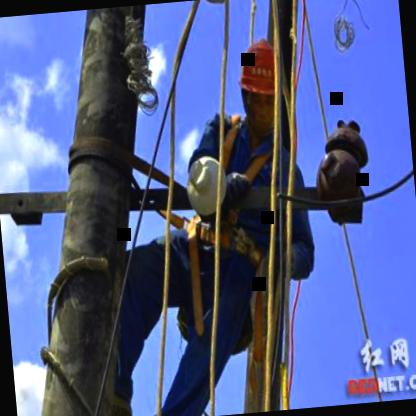helmet: (234, 30, 290, 140)
